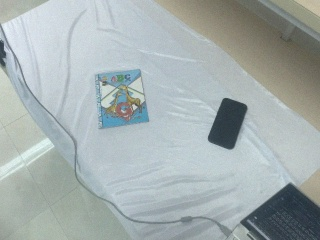book: (94, 69, 149, 130)
phone: (207, 97, 248, 150)
